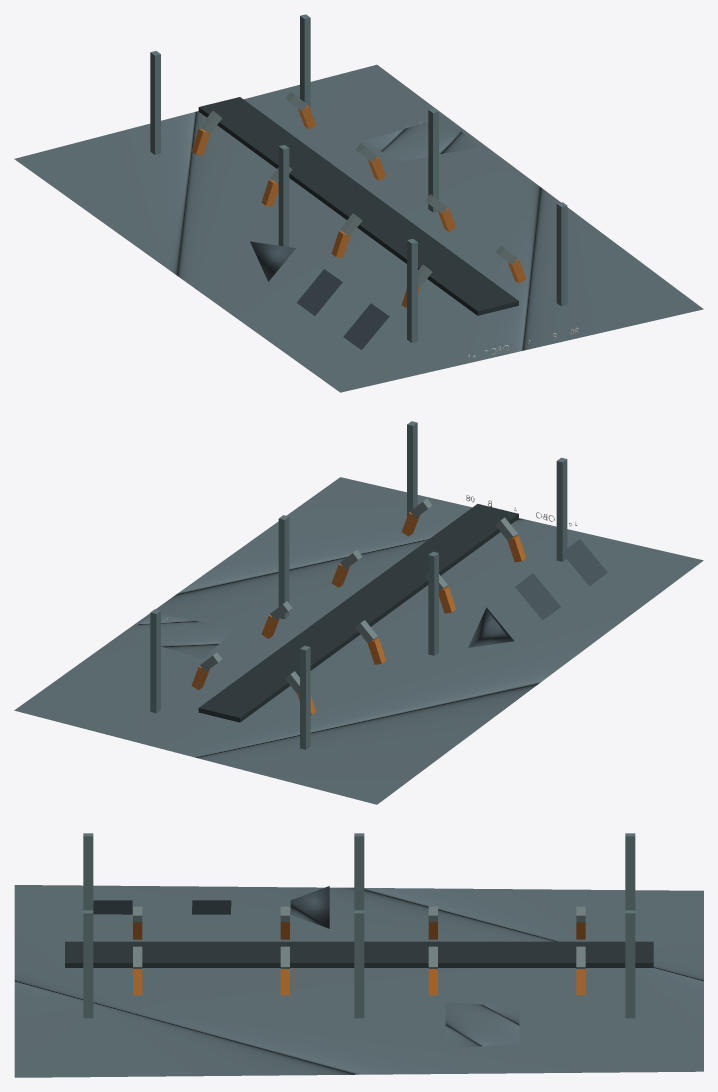
The model's file is robotic_assembly_line_d2_lod2.meshopt.glb.
3 renders of one model, top to bottom at view 1: azimuth 30°, elevation 25°; view 2: azimuth 150°, elevation 25°; view 3: azimuth 270°, elevation 25°, orthographic. The views are drawn at different scales.
Parts seen in each view (by area): view 1: ROBOTIC_ASSEMBLY_LINE_LOD2_STATIC_GEOMETRY; view 2: ROBOTIC_ASSEMBLY_LINE_LOD2_STATIC_GEOMETRY; view 3: ROBOTIC_ASSEMBLY_LINE_LOD2_STATIC_GEOMETRY.
Boxes of the visible parts, bbox=[...] form: ROBOTIC_ASSEMBLY_LINE_LOD2_STATIC_GEOMETRY: bbox=[14, 14, 703, 392]; ROBOTIC_ASSEMBLY_LINE_LOD2_STATIC_GEOMETRY: bbox=[14, 421, 703, 804]; ROBOTIC_ASSEMBLY_LINE_LOD2_STATIC_GEOMETRY: bbox=[14, 833, 703, 1077].
Bounding box in the file's own units: 17.99 × 4.97 × 28.02.
